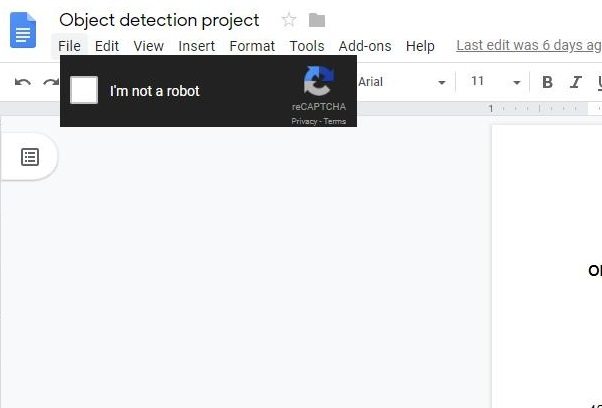captcha: (70, 75, 202, 105)
